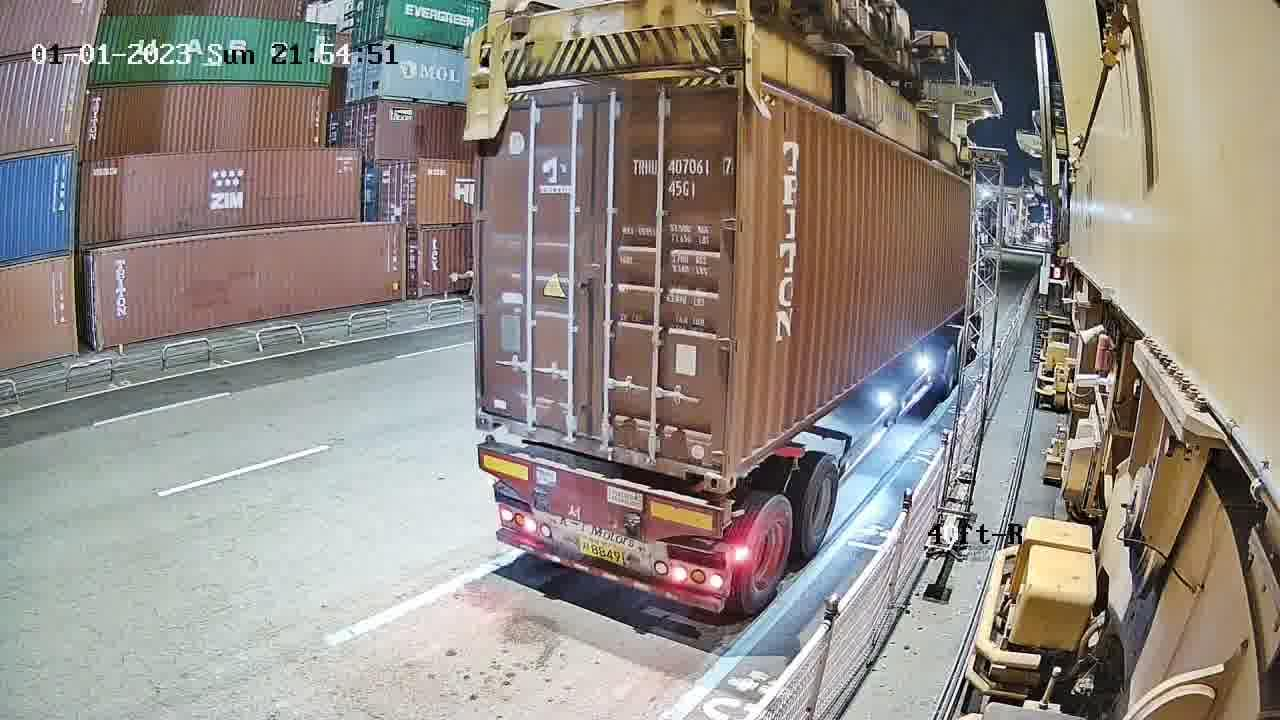Chassis: (477, 449, 723, 542)
Hole_L: (724, 420, 754, 497), (475, 384, 514, 436)
Hole_R: (681, 432, 729, 497)
Tire: (739, 496, 793, 607), (800, 458, 840, 553)
